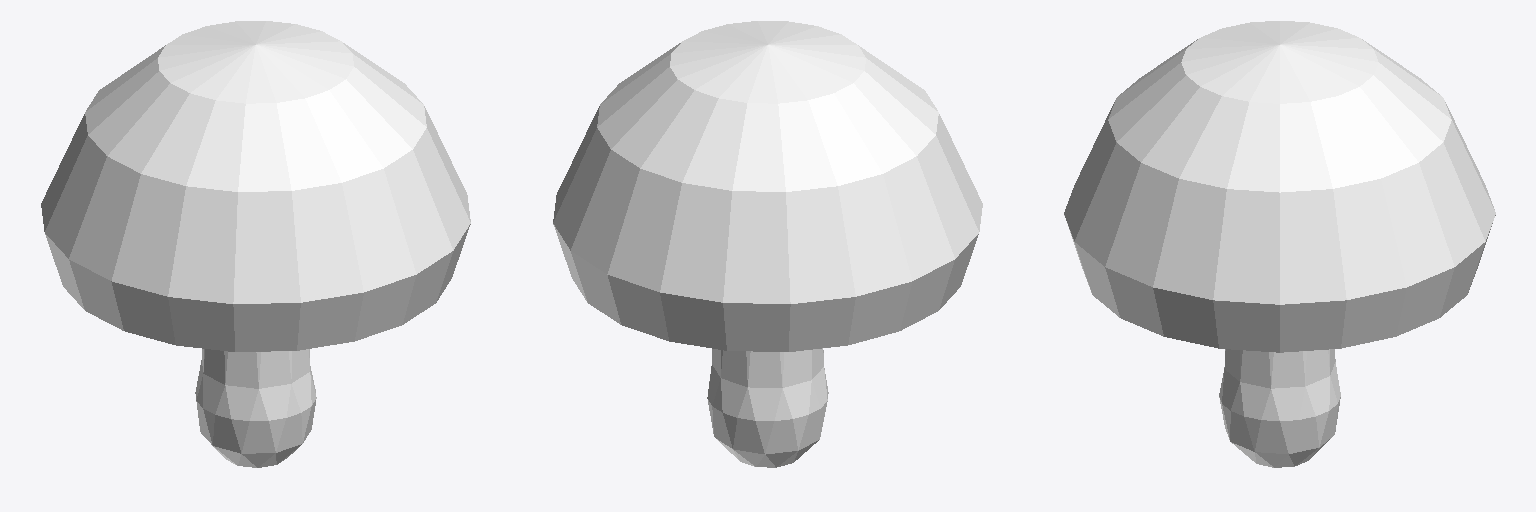
Rendered from Mushroom_3.obj.
3 views of the same model, side by side, from view 1: azimuth 30°, elevation 25°; view 2: azimuth 150°, elevation 25°; view 3: azimuth 270°, elevation 25° (orthographic).
Visible parts, largest first — view 1: Mushroom_3; view 2: Mushroom_3; view 3: Mushroom_3.
Part boxes in pixels (x1,y1,x2,y2): Mushroom_3: (41, 21, 470, 467); Mushroom_3: (553, 21, 982, 467); Mushroom_3: (1064, 21, 1495, 467).
Bounding box in the file's own units: 0.095 × 0.1025 × 0.095.